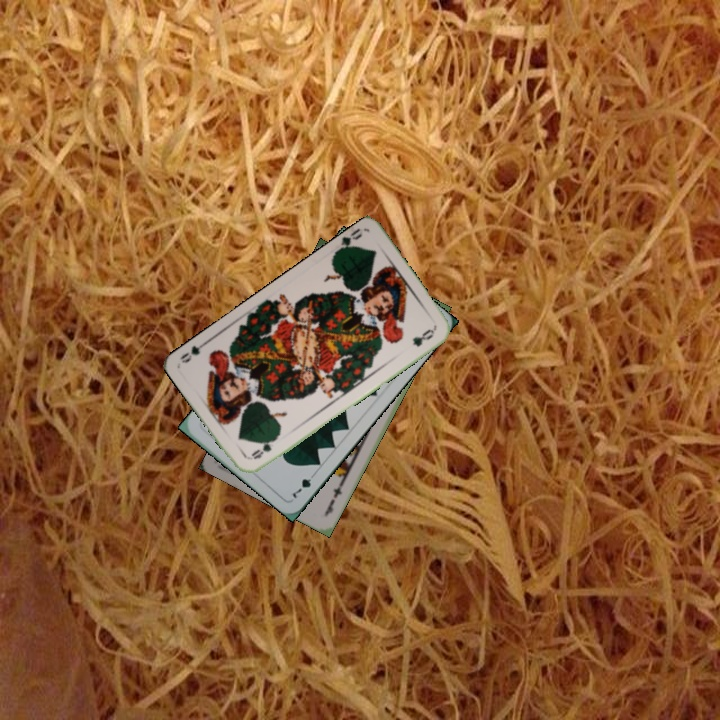E7: (321, 479, 346, 518)
G7: (288, 468, 319, 501)
GO: (331, 225, 365, 255), (247, 432, 280, 462)
